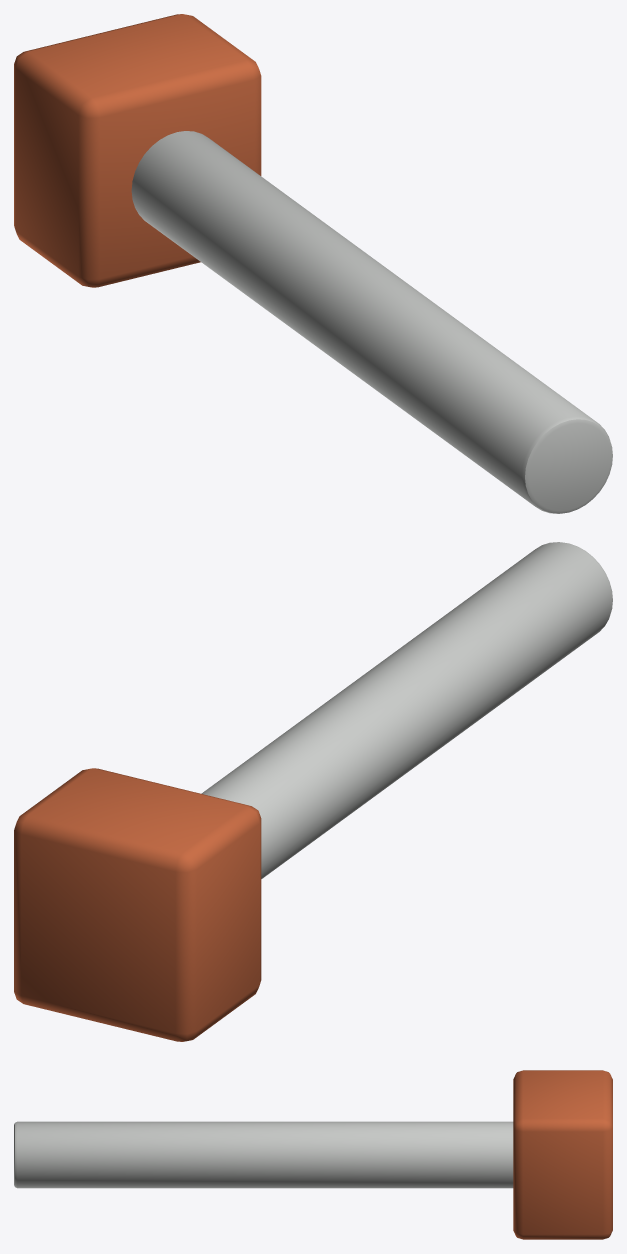
The model's file is crimping_press_ram.glb.
3 views of the same model, one above another, from view 1: azimuth 30°, elevation 25°; view 2: azimuth 150°, elevation 25°; view 3: azimuth 270°, elevation 25° (orthographic). The views are drawn at different scales.
Parts seen in each view (by area): view 1: crimping_press_ram; view 2: crimping_press_ram; view 3: crimping_press_ram.
Boxes of the visible parts, x1,y1,x2,y2 form: crimping_press_ram: (14, 14, 612, 513); crimping_press_ram: (14, 542, 612, 1041); crimping_press_ram: (14, 1070, 612, 1239).
Size of the model in its own units: 0.04 by 0.04 by 0.18.
